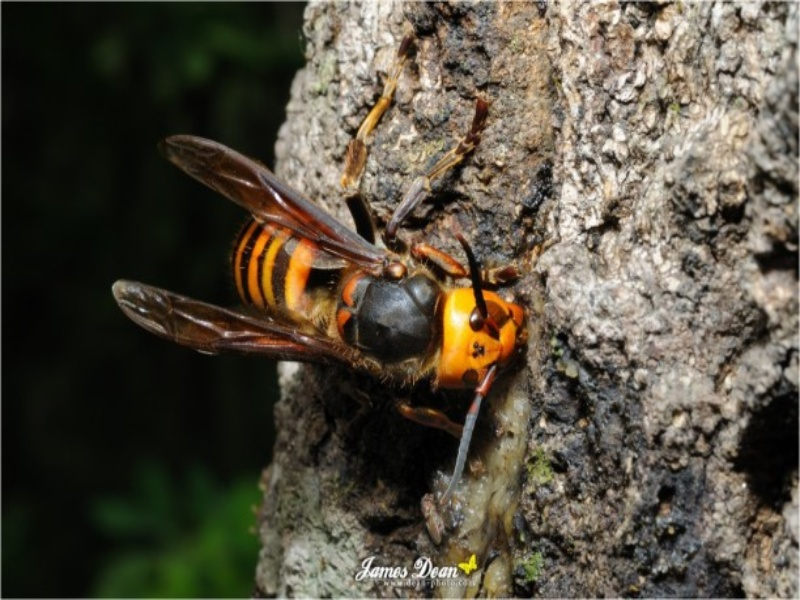asian_giant_hornet: (225, 198, 529, 440)
